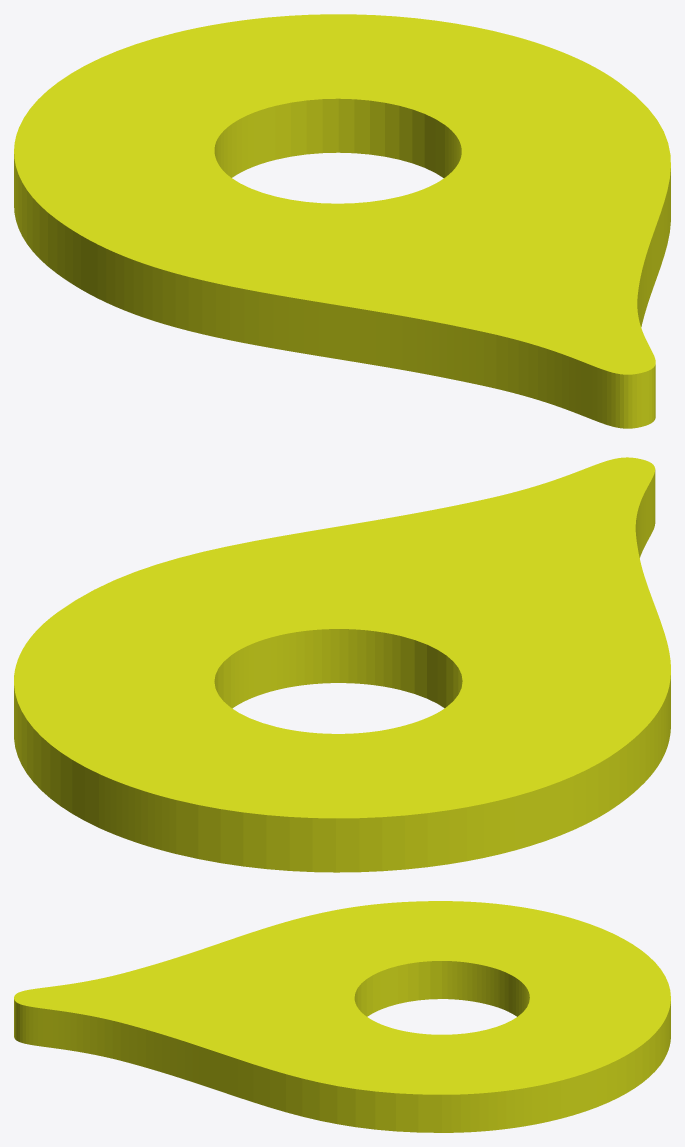
Rendered from pin.glb.
The picture shows the model from 3 angles, top to bottom: view 1: azimuth 30°, elevation 25°; view 2: azimuth 150°, elevation 25°; view 3: azimuth 270°, elevation 25°; orthographic projection. The views are drawn at different scales.
Parts seen in each view (by area): view 1: Curve; view 2: Curve; view 3: Curve.
Boxes of the visible parts, x1=… form: Curve: x1=14, y1=14, x2=670, y2=428; Curve: x1=14, y1=457, x2=670, y2=872; Curve: x1=14, y1=901, x2=670, y2=1132.
Size of the model in its own units: 1.6 by 0.147 by 2.29.
